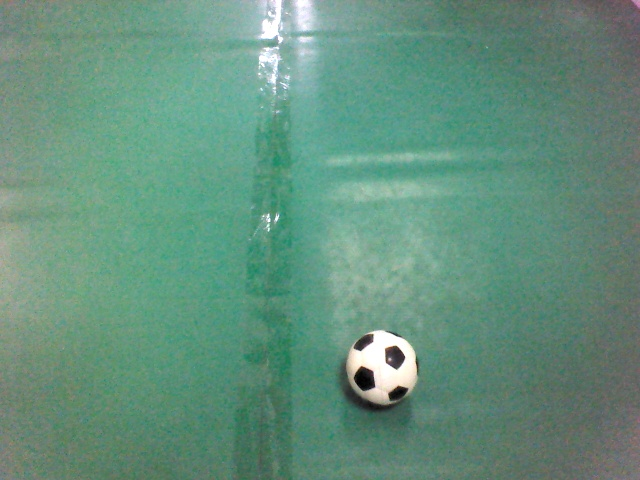ball: (344, 327, 422, 408)
